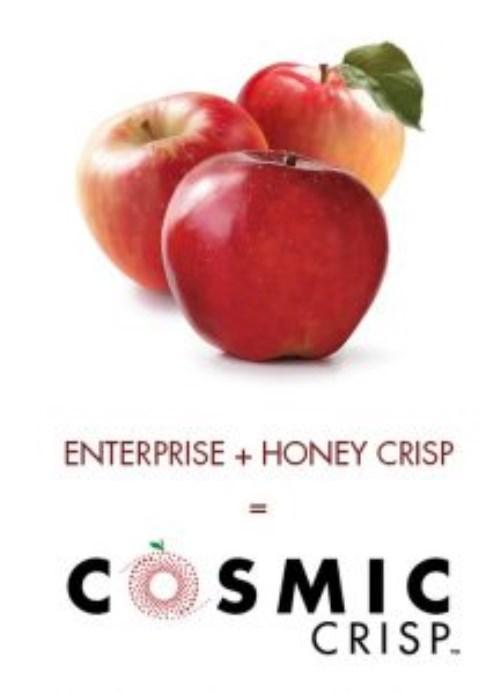apple: (163, 150, 390, 364), (75, 96, 267, 302), (240, 62, 404, 200)
